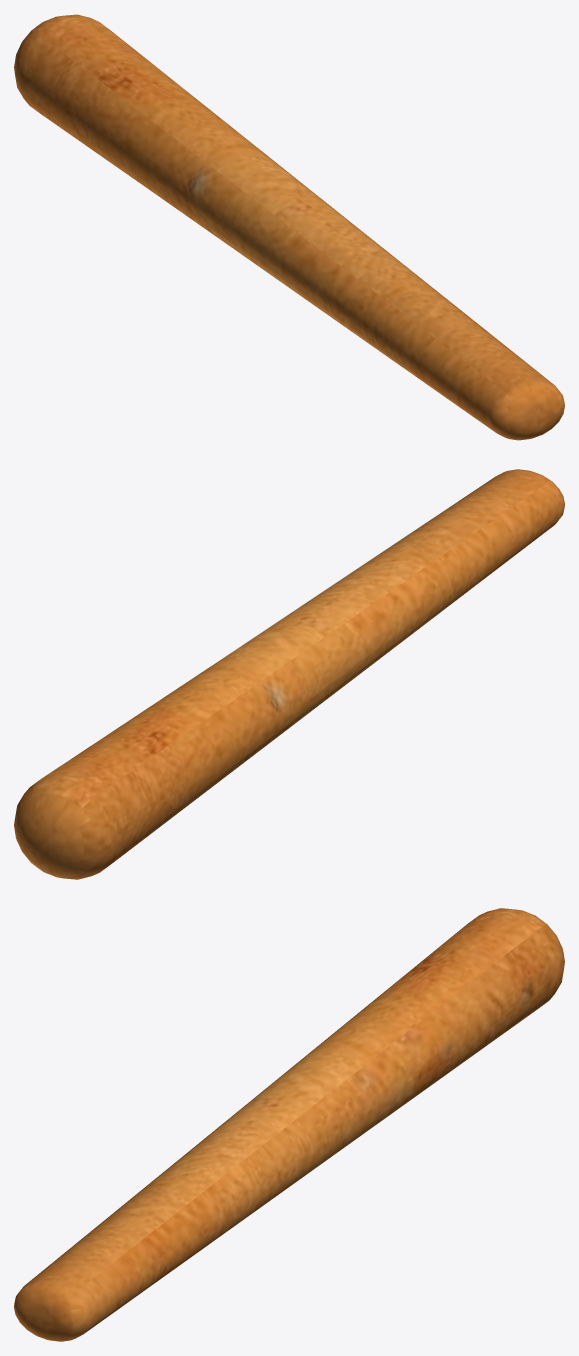
The picture shows the model from 3 angles, top to bottom: view 1: azimuth 30°, elevation 25°; view 2: azimuth 150°, elevation 25°; view 3: azimuth 330°, elevation 25°; orthographic projection.
Size of the model in its own units: 0.0726 by 0.0681 by 0.621.
1 material, 1 textured.
